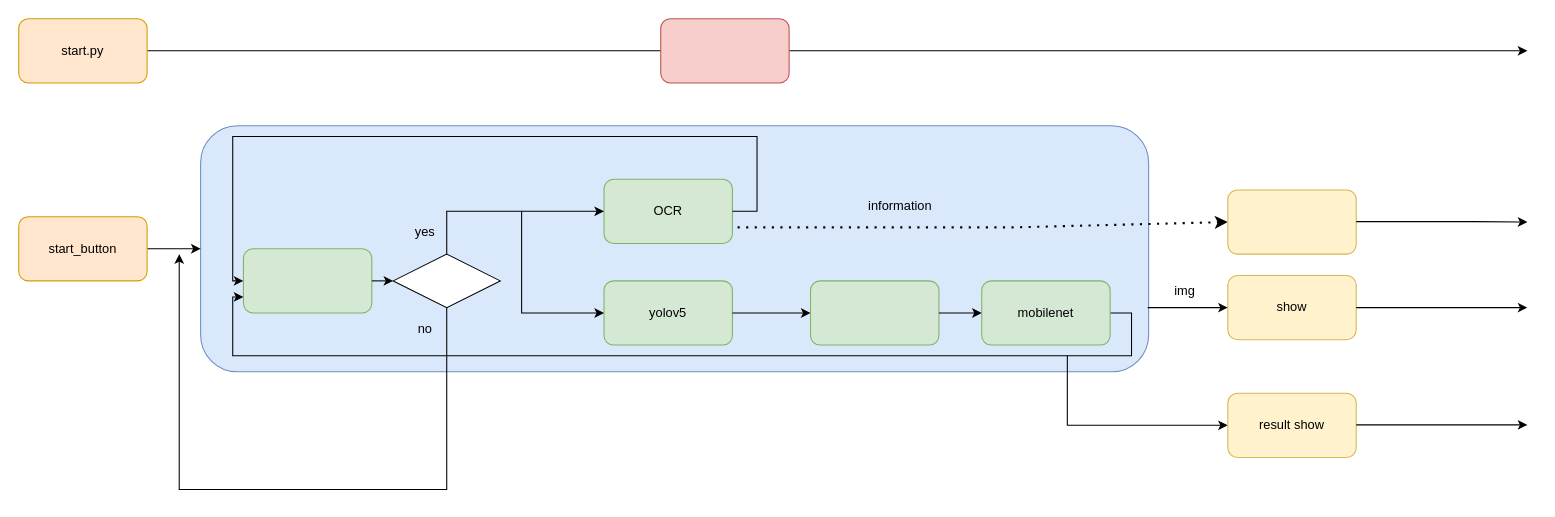
Some shapes in this 1555 by 517 pixel diagram are drawn without their labels. Here are the shapes that lost their labels. From the top down, the centre of each, then its label:
At point 724,50: "UI".
At point 1291,221: "Table".
At point 307,280: "場地判別".
At point 874,312: "openpose".
